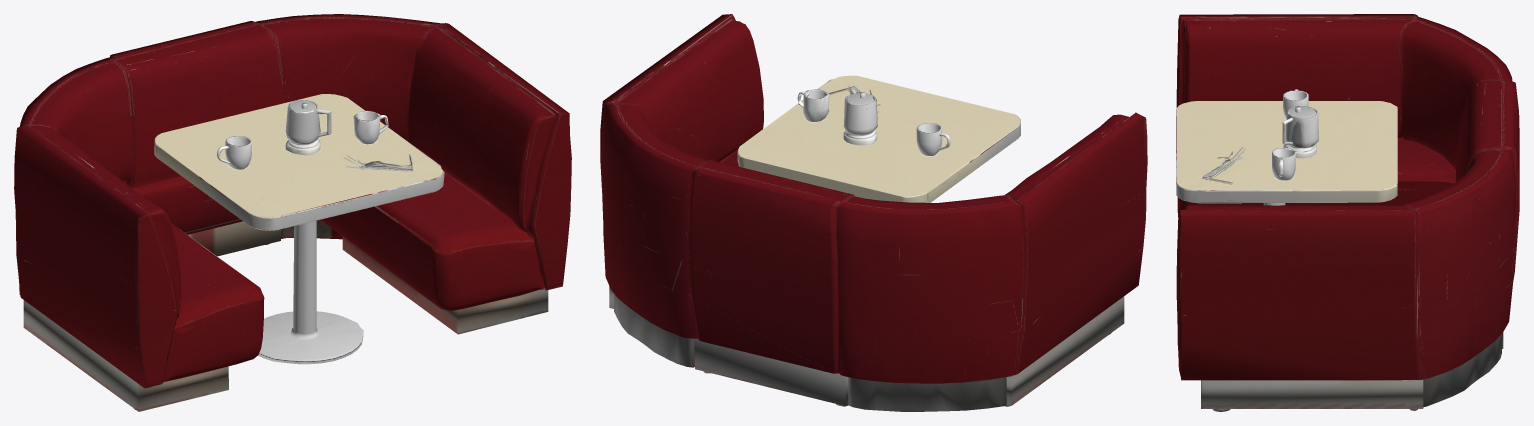
File: interior-diner-booth.glb
The picture shows the model from 3 angles, left to right: view 1: azimuth 30°, elevation 25°; view 2: azimuth 150°, elevation 25°; view 3: azimuth 270°, elevation 25°; orthographic projection. The views are drawn at different scales.
Size of the model in its own units: 0.9556 by 0.4697 by 0.6753.
Materials: 1 (1 with a texture image).
